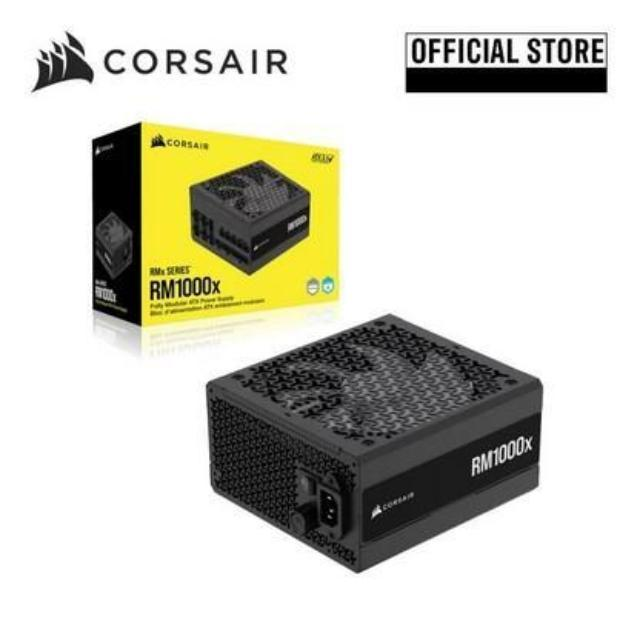PSU: (183, 309, 557, 582), (187, 159, 316, 273)
